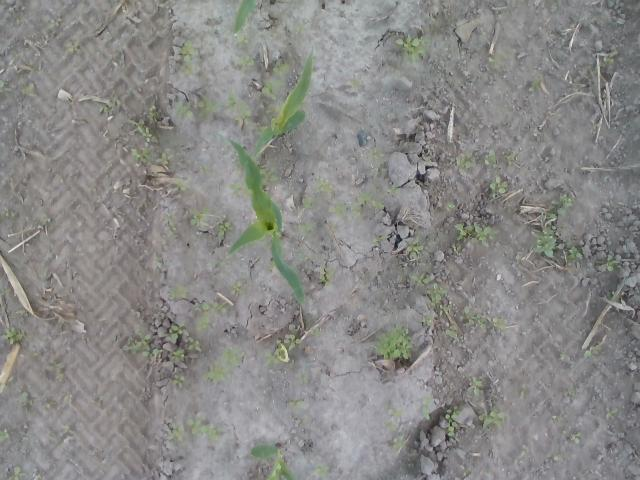Maize: (224, 135, 306, 308), (253, 43, 317, 156), (250, 438, 296, 480), (234, 0, 264, 35)
Weeds: (198, 89, 252, 121), (126, 95, 160, 144), (166, 318, 202, 363), (373, 323, 416, 360), (203, 346, 241, 382), (264, 332, 301, 368), (454, 220, 498, 248), (396, 31, 433, 64), (185, 414, 220, 446), (528, 224, 559, 258), (462, 310, 508, 332), (125, 334, 163, 358), (544, 195, 576, 222), (260, 77, 288, 105), (383, 419, 407, 449), (444, 404, 464, 438), (478, 407, 506, 431), (426, 282, 450, 307), (328, 199, 362, 216), (179, 38, 194, 75), (0, 326, 27, 346), (358, 191, 385, 210), (193, 302, 210, 332), (162, 210, 178, 241), (129, 145, 152, 164), (484, 52, 508, 70), (234, 54, 258, 72), (48, 358, 66, 382), (455, 149, 477, 168), (408, 270, 434, 286), (318, 264, 336, 287), (566, 240, 584, 262), (173, 101, 195, 119), (168, 283, 190, 301), (310, 462, 332, 480), (262, 166, 282, 185), (190, 207, 210, 226), (165, 421, 184, 441), (597, 254, 618, 272), (405, 238, 426, 256), (489, 175, 508, 194), (420, 390, 432, 420), (17, 80, 38, 97), (468, 374, 484, 396), (372, 183, 401, 195), (286, 398, 306, 415), (584, 342, 602, 359), (8, 463, 26, 480), (444, 326, 463, 342), (175, 174, 192, 191), (366, 146, 386, 160), (48, 15, 64, 32), (484, 150, 498, 169), (64, 40, 80, 56), (316, 176, 332, 192), (217, 222, 233, 238), (234, 33, 251, 48), (272, 61, 290, 75), (210, 302, 231, 314), (302, 196, 321, 209), (229, 280, 244, 296), (296, 370, 311, 386), (16, 392, 33, 406), (569, 430, 582, 448), (155, 150, 169, 166), (371, 233, 389, 245), (171, 374, 190, 385), (299, 222, 315, 235), (504, 144, 516, 161), (385, 405, 403, 416), (438, 304, 452, 318), (529, 77, 541, 93), (109, 94, 119, 113), (294, 249, 306, 264), (0, 207, 16, 218), (568, 384, 578, 401), (96, 101, 110, 113), (604, 52, 618, 64), (0, 78, 9, 96), (446, 198, 457, 212), (230, 180, 241, 192), (0, 430, 11, 442), (606, 406, 618, 417), (199, 164, 210, 175), (293, 23, 305, 33), (154, 255, 161, 272), (63, 424, 74, 434), (421, 316, 434, 324), (310, 326, 320, 336), (606, 290, 616, 300), (62, 391, 73, 400), (32, 473, 44, 480), (351, 79, 360, 88), (464, 467, 472, 476), (559, 350, 566, 360)
